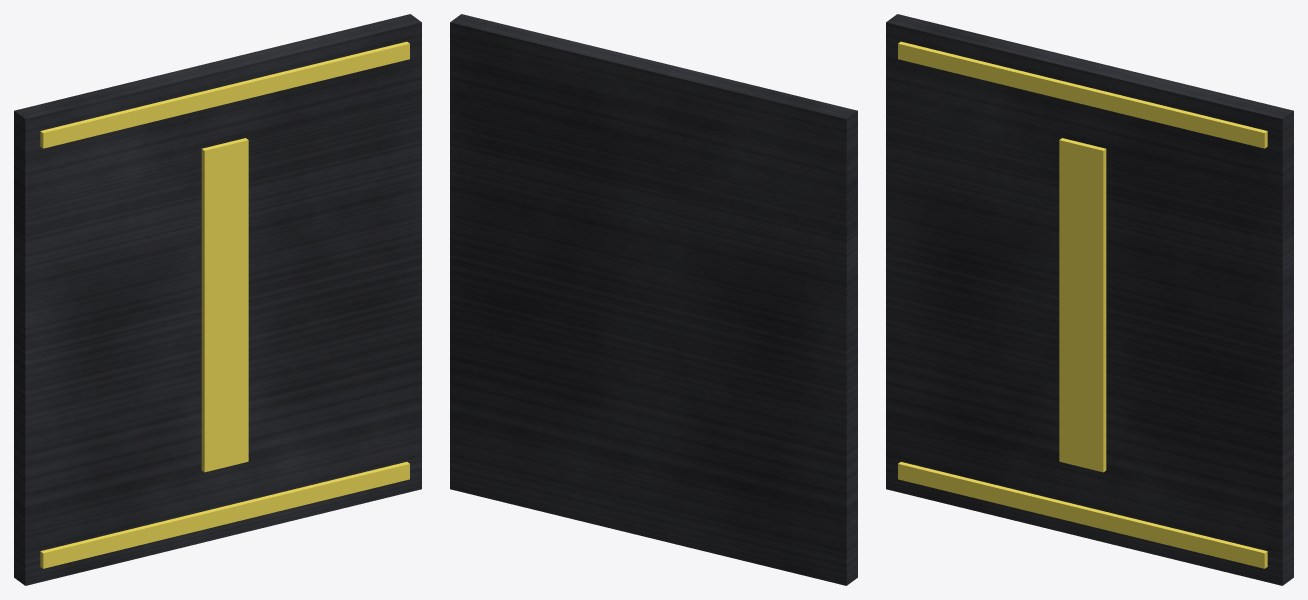
Rendered from Sign_Main_1.fbx.
The picture shows the model from 3 angles, left to right: view 1: azimuth 30°, elevation 25°; view 2: azimuth 150°, elevation 25°; view 3: azimuth 330°, elevation 25°; orthographic projection.
Parts seen in each view (by area): view 1: Sign_Main_1; view 2: Sign_Main_1; view 3: Sign_Main_1.
Boxes of the visible parts, x1,y1,x2,y2 form: Sign_Main_1: [14, 14, 421, 585]; Sign_Main_1: [450, 14, 857, 585]; Sign_Main_1: [886, 14, 1293, 585].
Size of the model in its own units: 0.8 by 0.9 by 0.05.
Materials: 2 (1 with a texture image).
